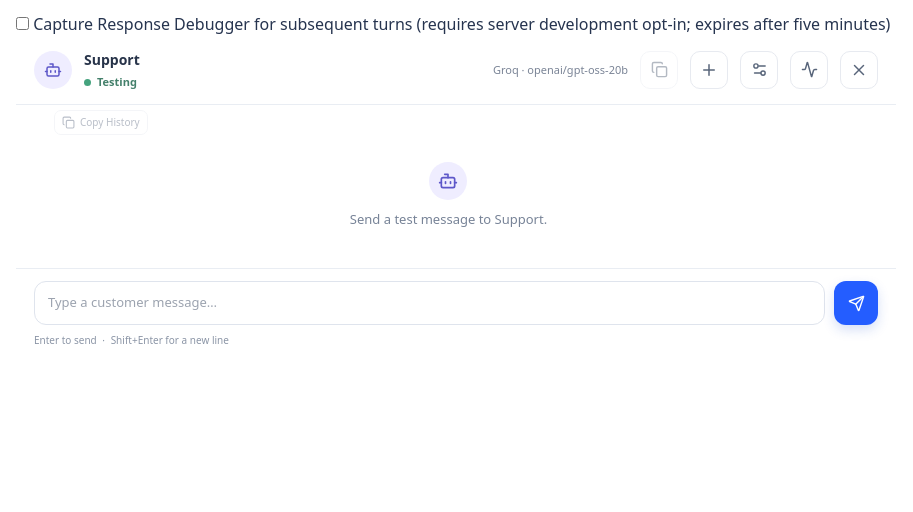
PlaygroundChat › shows a safe sign-in recovery message after authentication expires
Type "Hello" into the text box named "Message your assistant" at (430, 303), box [34,281,825,325]
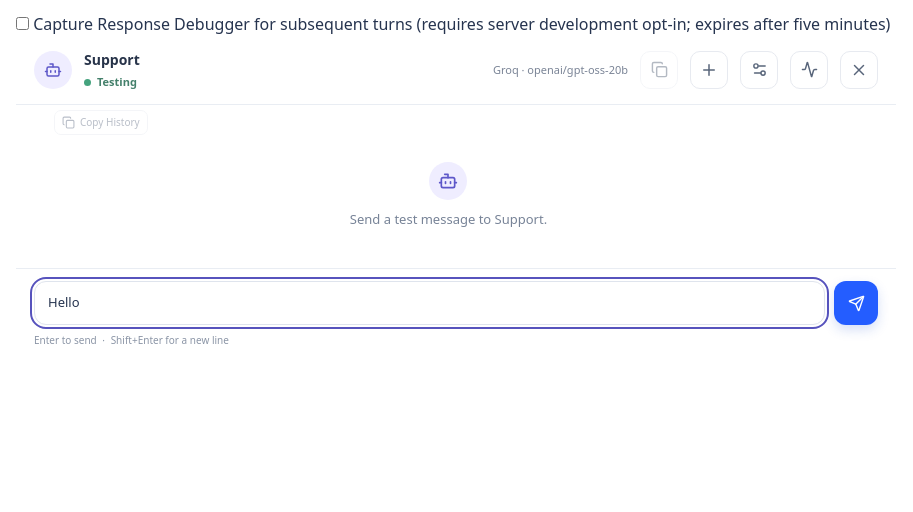
Click the button named "Send message" at (856, 303), box [834,281,878,325]
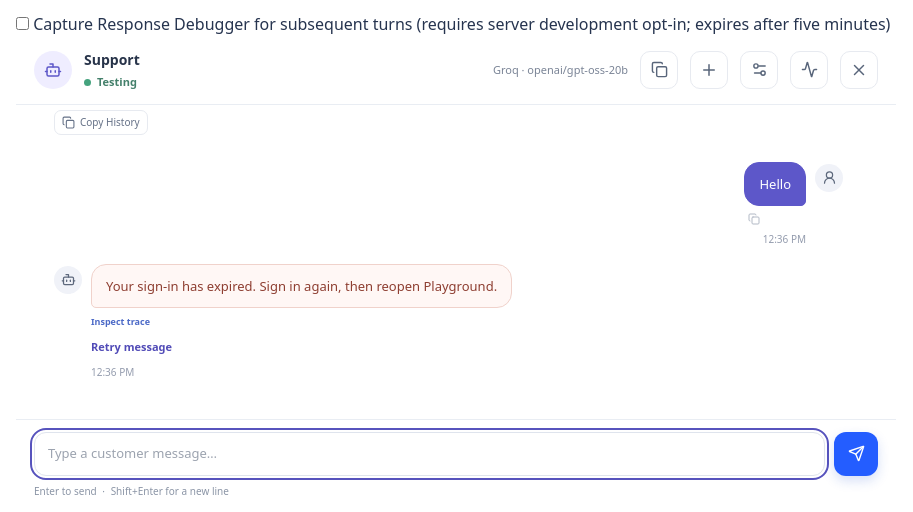
Now the text "Your sign-in has expired. Sign in again, then reopen Playground." is shown, box [91,264,512,308]
